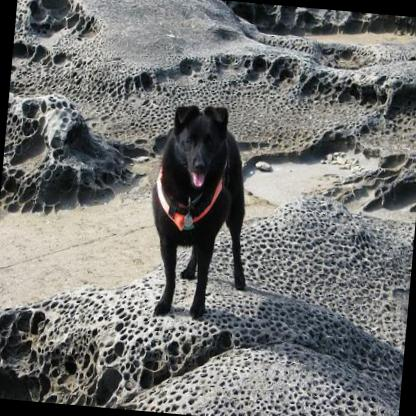schipperke: (140, 100, 261, 321)
